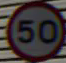Speed limit: (7, 3, 62, 53)
